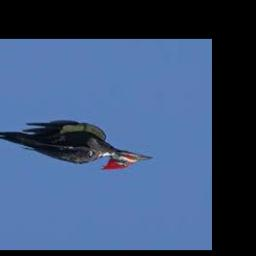Woodpecker: (0, 121, 153, 171)
